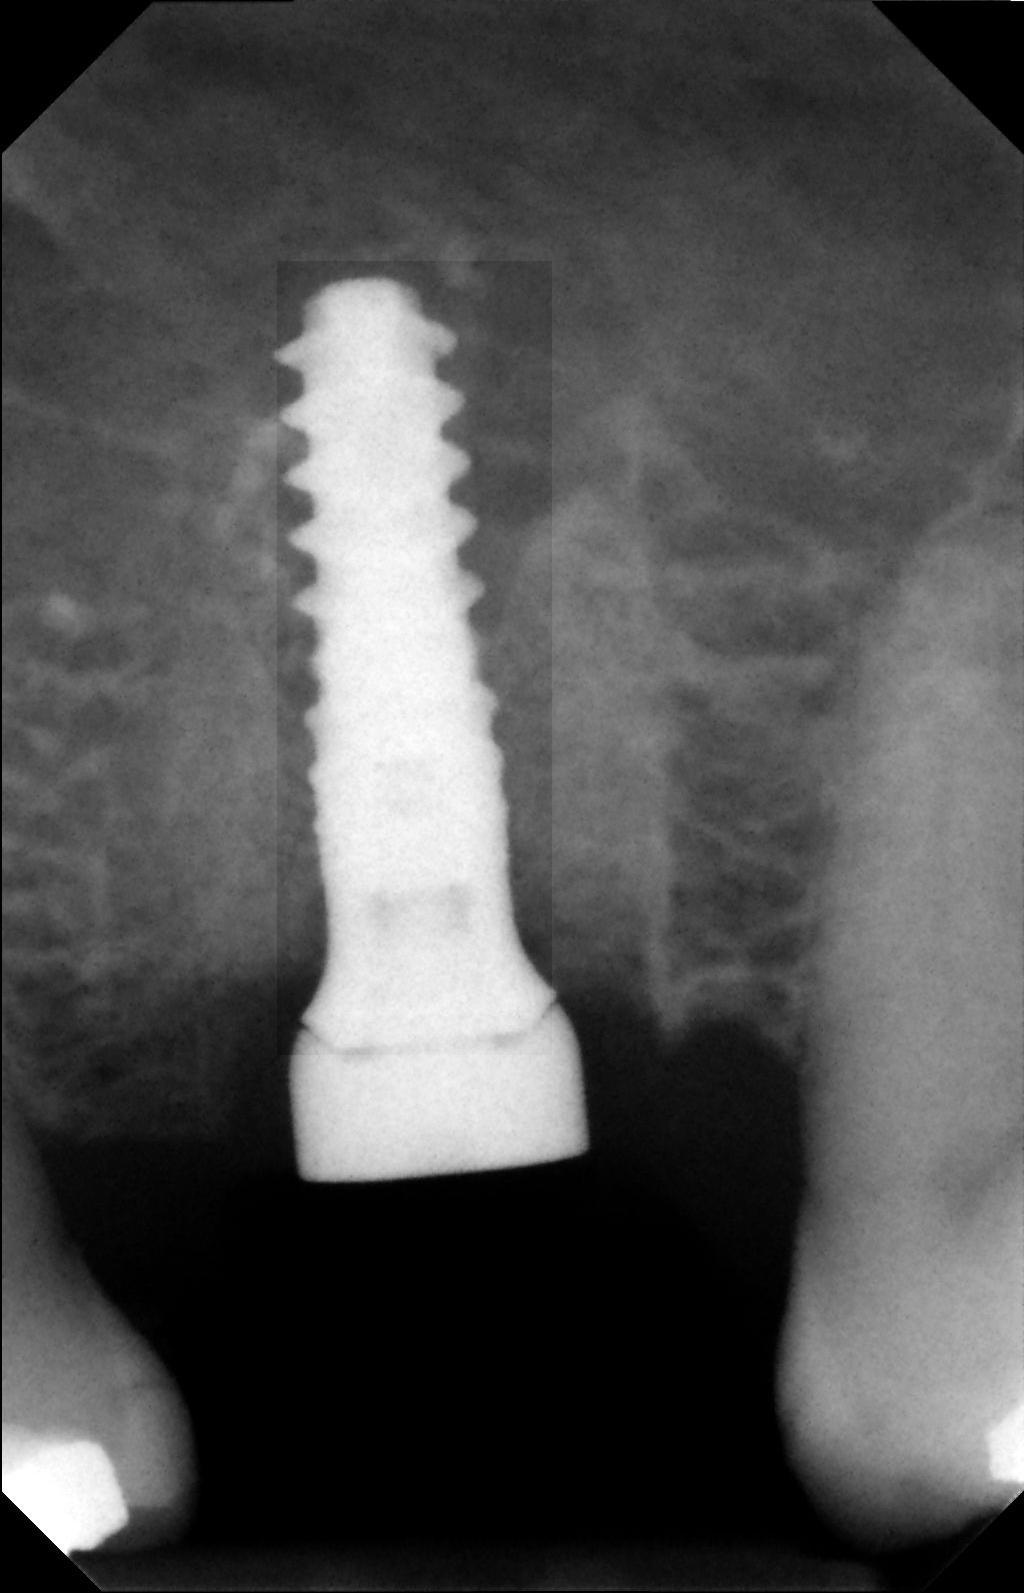Straumann: (248, 253, 556, 1058)
